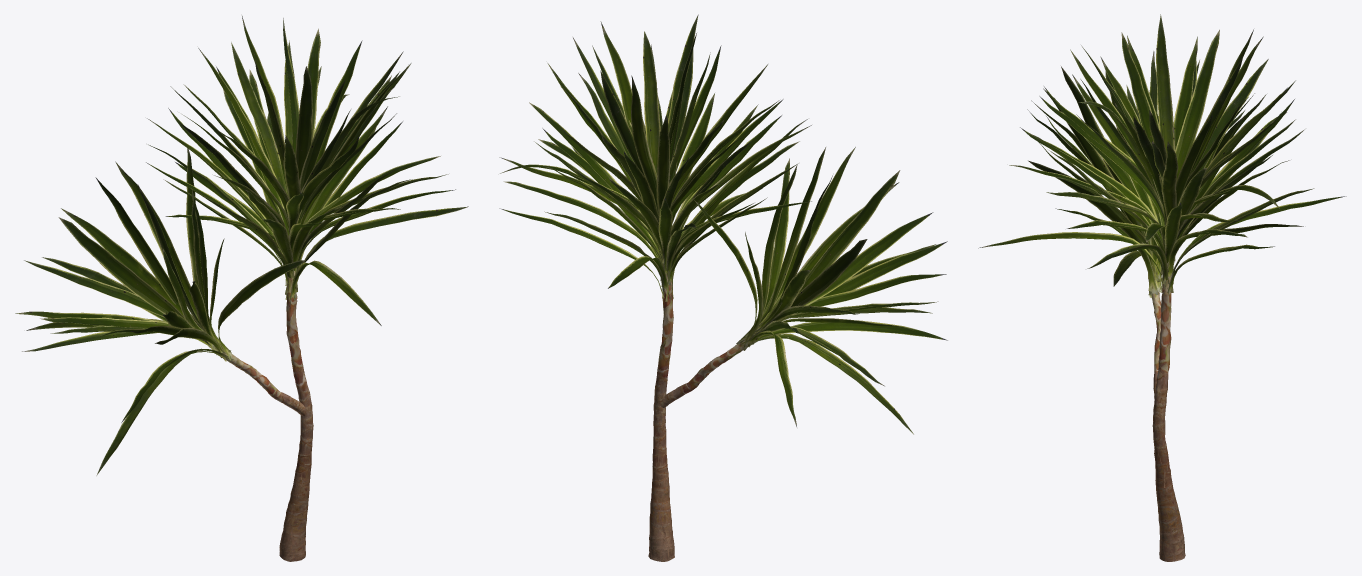
The model's file is background_plant_5.glb.
3 views of the same model, side by side, from view 1: azimuth 30°, elevation 25°; view 2: azimuth 150°, elevation 25°; view 3: azimuth 270°, elevation 25° (orthographic).
Parts seen in each view (by area): view 1: _f3in_Var3_LOD1; view 2: _f3in_Var3_LOD1; view 3: _f3in_Var3_LOD1.
Boxes of the visible parts, x1,y1,x2,y2 form: _f3in_Var3_LOD1: (15, 16, 468, 561); _f3in_Var3_LOD1: (499, 14, 947, 561); _f3in_Var3_LOD1: (978, 14, 1346, 561).
Size of the model in its own units: 29.48 by 35.95 by 23.06.
1 material, 1 textured.
